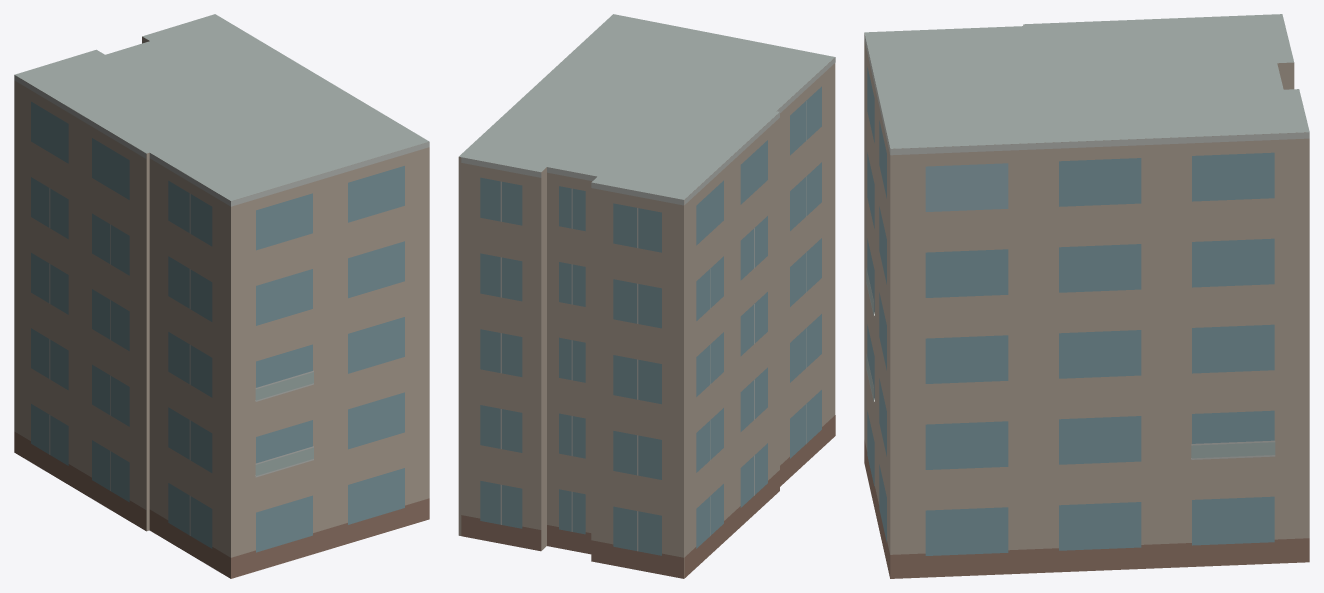
Rendered from survey-upis-32630586.glb.
The picture shows the model from 3 angles, left to right: view 1: azimuth 30°, elevation 25°; view 2: azimuth 150°, elevation 25°; view 3: azimuth 270°, elevation 25°; orthographic projection. The views are drawn at different scales.
Visible parts, largest first — view 1: survey-upis-32630586.tmp; view 2: survey-upis-32630586.tmp; view 3: survey-upis-32630586.tmp.
Boxes of the visible parts, <box> form: survey-upis-32630586.tmp: <box>14,14,429,578</box>; survey-upis-32630586.tmp: <box>458,14,835,578</box>; survey-upis-32630586.tmp: <box>864,14,1309,578</box>.
Size of the model in its own units: 11.11 by 16.49 by 15.49.
